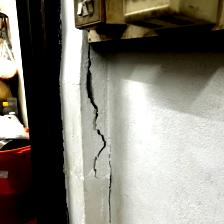High: (69, 44, 130, 224)
